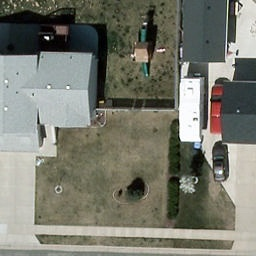camping car: (180, 79, 204, 143)
car: (214, 146, 230, 186)
pickup: (209, 85, 230, 134)
